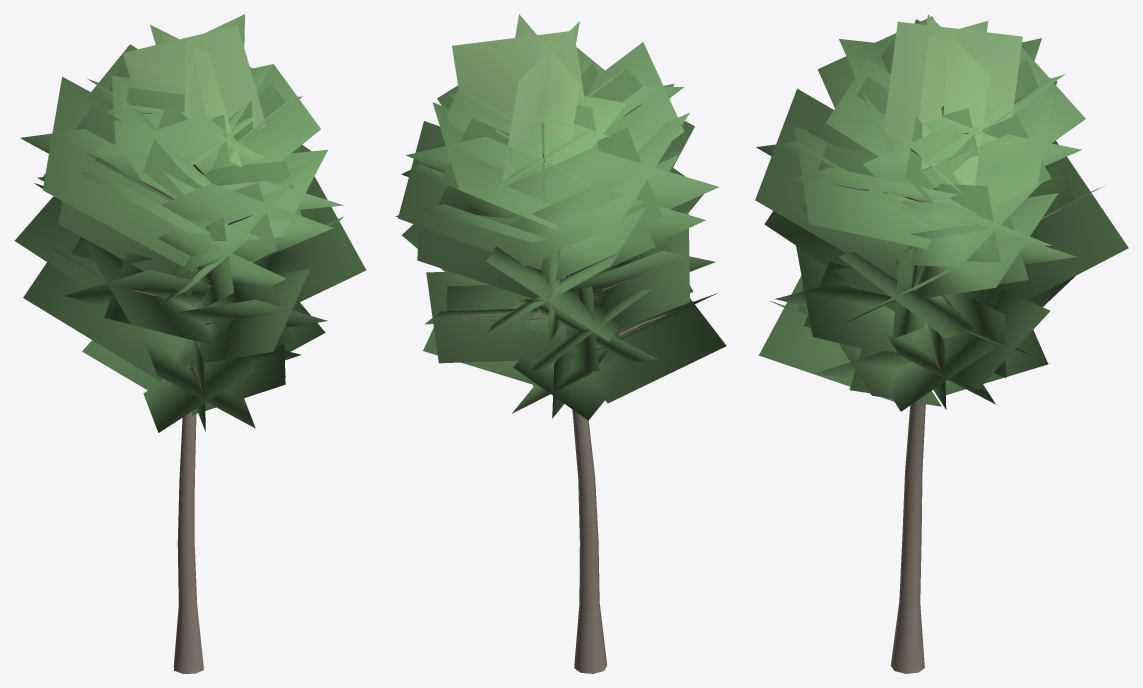
Rendered from tree_pine_b_lod0.glb.
The picture shows the model from 3 angles, left to right: view 1: azimuth 30°, elevation 25°; view 2: azimuth 150°, elevation 25°; view 3: azimuth 270°, elevation 25°; orthographic projection. The views are drawn at different scales.
Parts seen in each view (by area): view 1: tree_pine_b_lod0; view 2: tree_pine_b_lod0; view 3: tree_pine_b_lod0.
Part boxes in pixels (x1,y1,x2,y2): tree_pine_b_lod0: (14, 14, 366, 673); tree_pine_b_lod0: (395, 14, 726, 673); tree_pine_b_lod0: (755, 14, 1128, 673).
Size of the model in its own units: 8.38 by 16.65 by 8.54.
